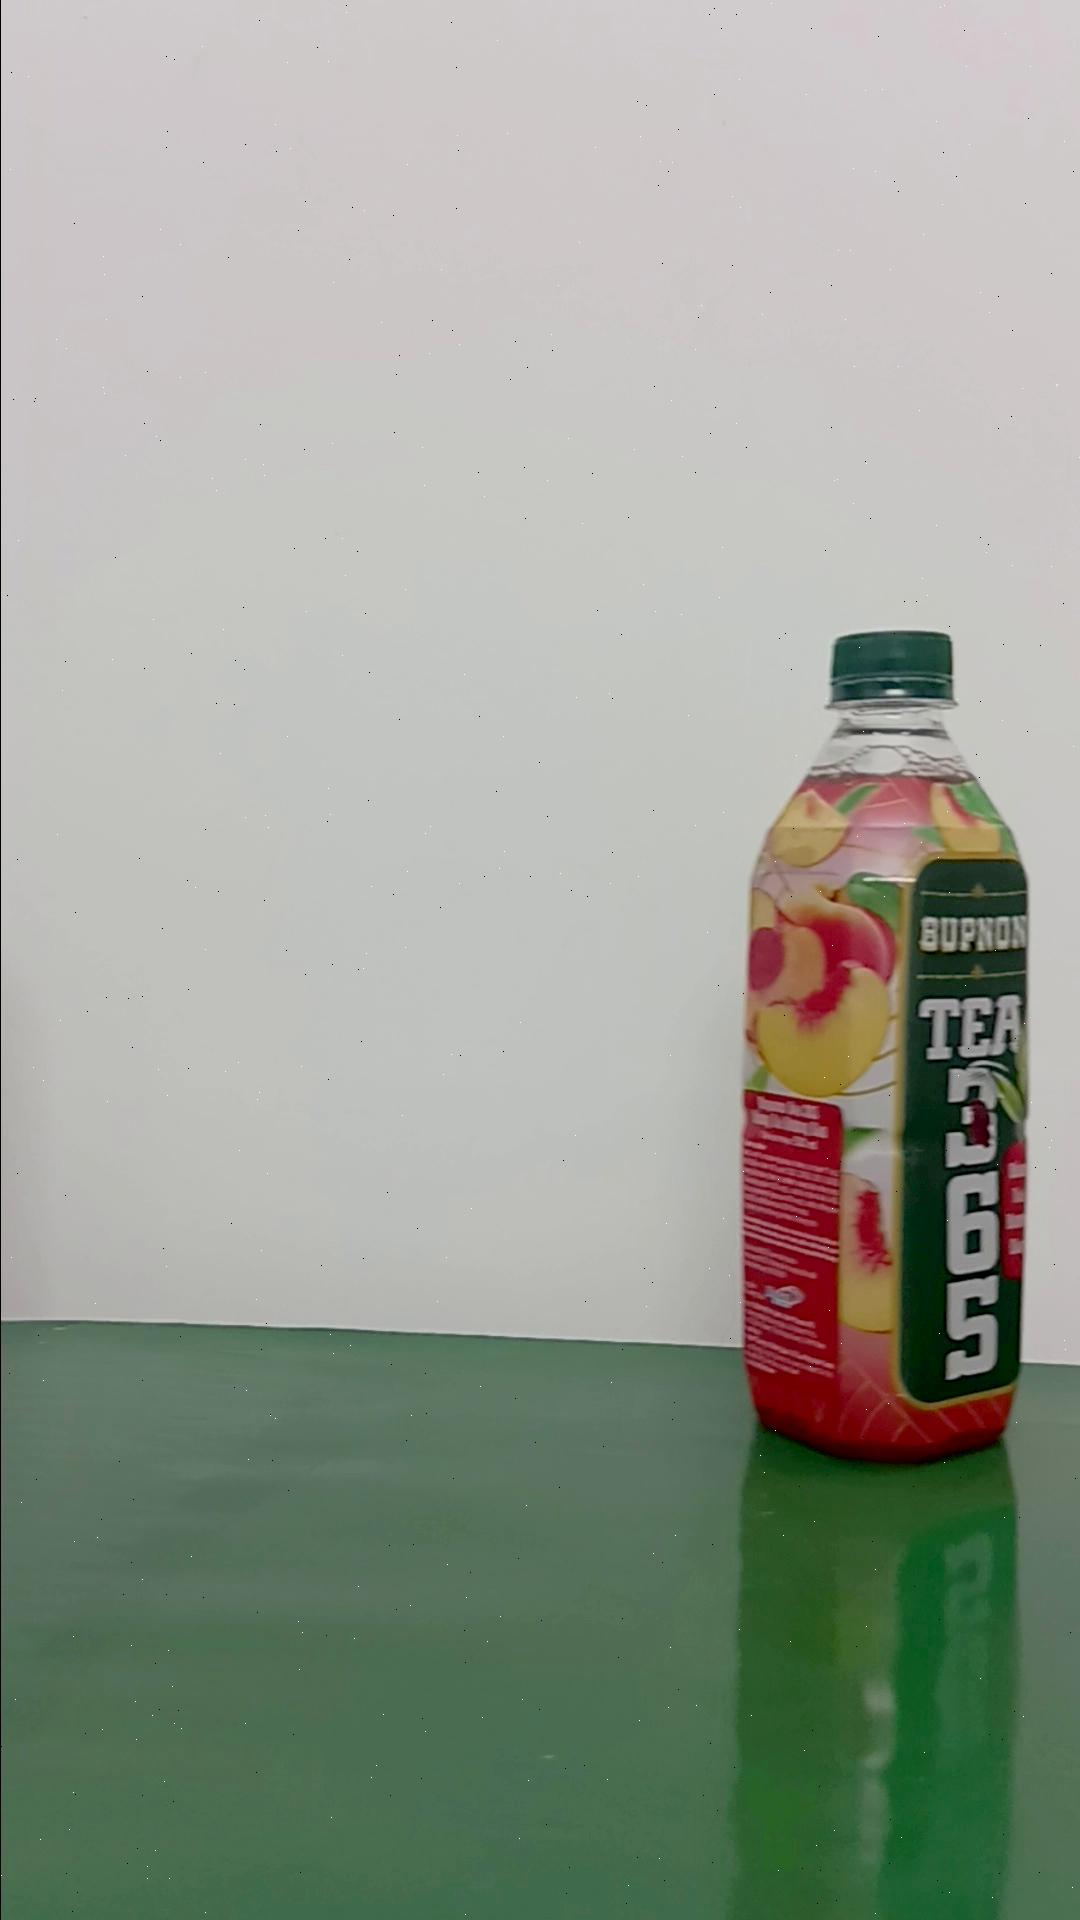loi rach va lap chai: (740, 625, 1034, 1470)
